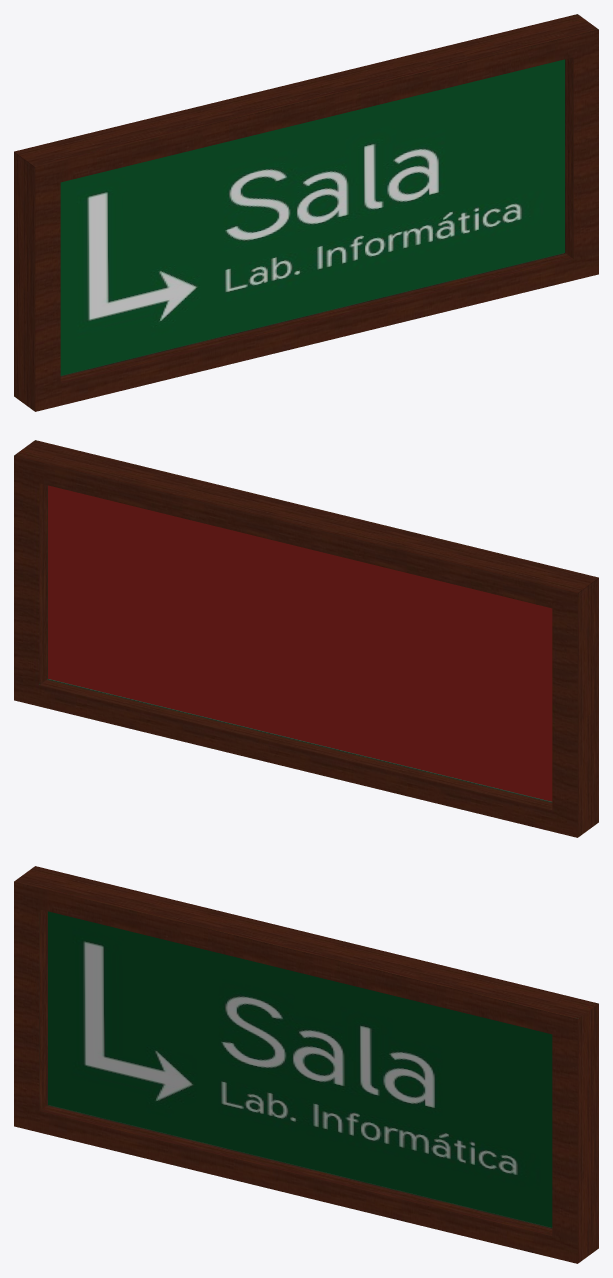
Rendered from low_poly_green_running_man_exit_labinformatica.glb.
3 renders of one model, top to bottom at view 1: azimuth 30°, elevation 25°; view 2: azimuth 150°, elevation 25°; view 3: azimuth 330°, elevation 25°, orthographic.
Parts seen in each view (by area): view 1: exit-sign_Baked_0; view 2: exit-sign_Baked_0; view 3: exit-sign_Baked_0.
Boxes of the visible parts, box(x1,y1,x2,y2) form: exit-sign_Baked_0: box(14, 14, 598, 411); exit-sign_Baked_0: box(14, 440, 598, 837); exit-sign_Baked_0: box(14, 866, 598, 1263).
Size of the model in its own units: 2.44 by 1.01 by 0.1593.
Materials: 3 (2 with a texture image).
